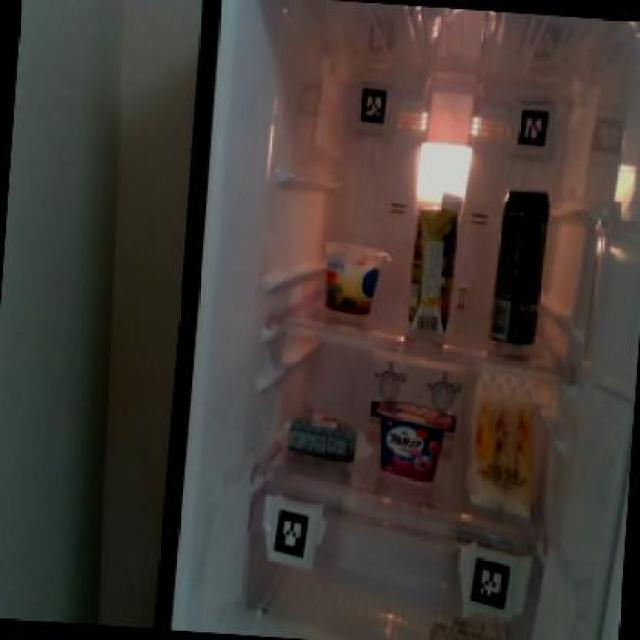energy_drink: (486, 182, 552, 350)
pudding: (320, 236, 386, 315)
rice_ball: (280, 406, 362, 468)
sandwich: (462, 369, 546, 522)
smoothie: (404, 188, 464, 338)
yogurt: (370, 396, 452, 482)
